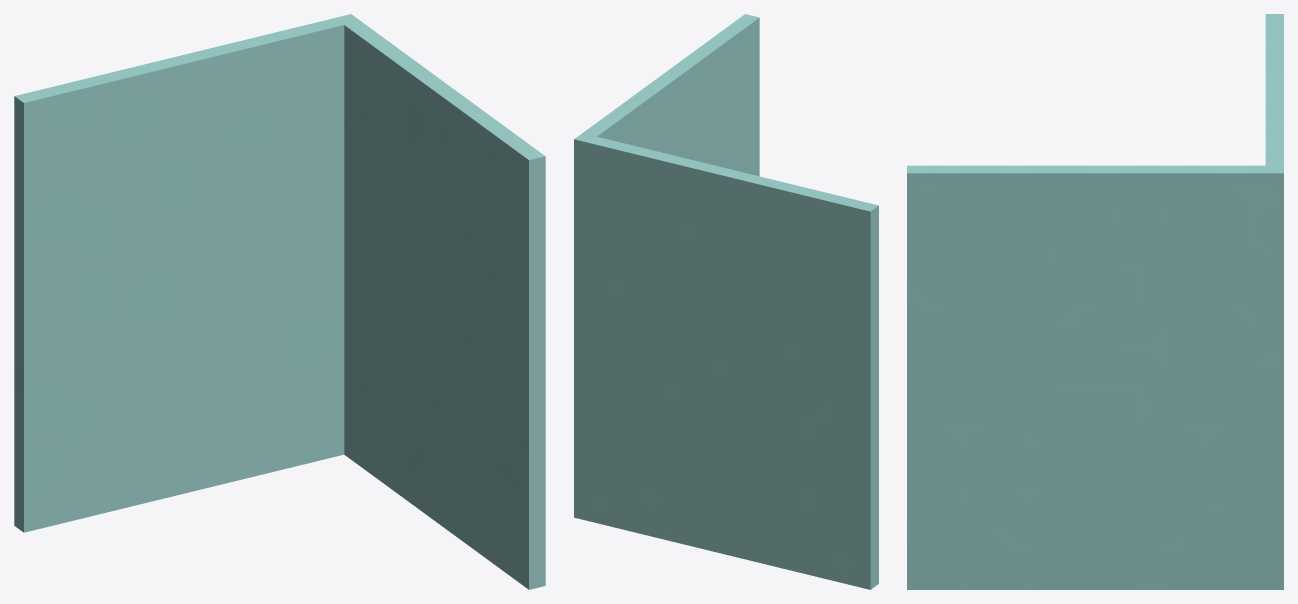
The model's file is Wall_04_LShape.fbx.
3 views of the same model, side by side, from view 1: azimuth 30°, elevation 25°; view 2: azimuth 150°, elevation 25°; view 3: azimuth 270°, elevation 25° (orthographic). The views are drawn at different scales.
Visible parts, largest first — view 1: Wall_04_LShape; view 2: Wall_04_LShape; view 3: Wall_04_LShape.
Part boxes in pixels (<box>): Wall_04_LShape: <box>14,14,545,589</box>; Wall_04_LShape: <box>574,14,878,589</box>; Wall_04_LShape: <box>907,14,1283,589</box>.
Size of the model in its own units: 2.05 by 2.5 by 2.05.
